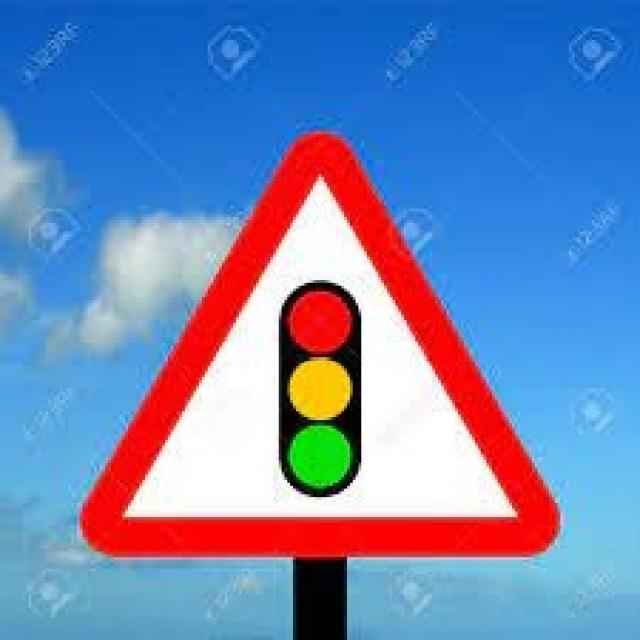light_traffic: (72, 128, 563, 566)
